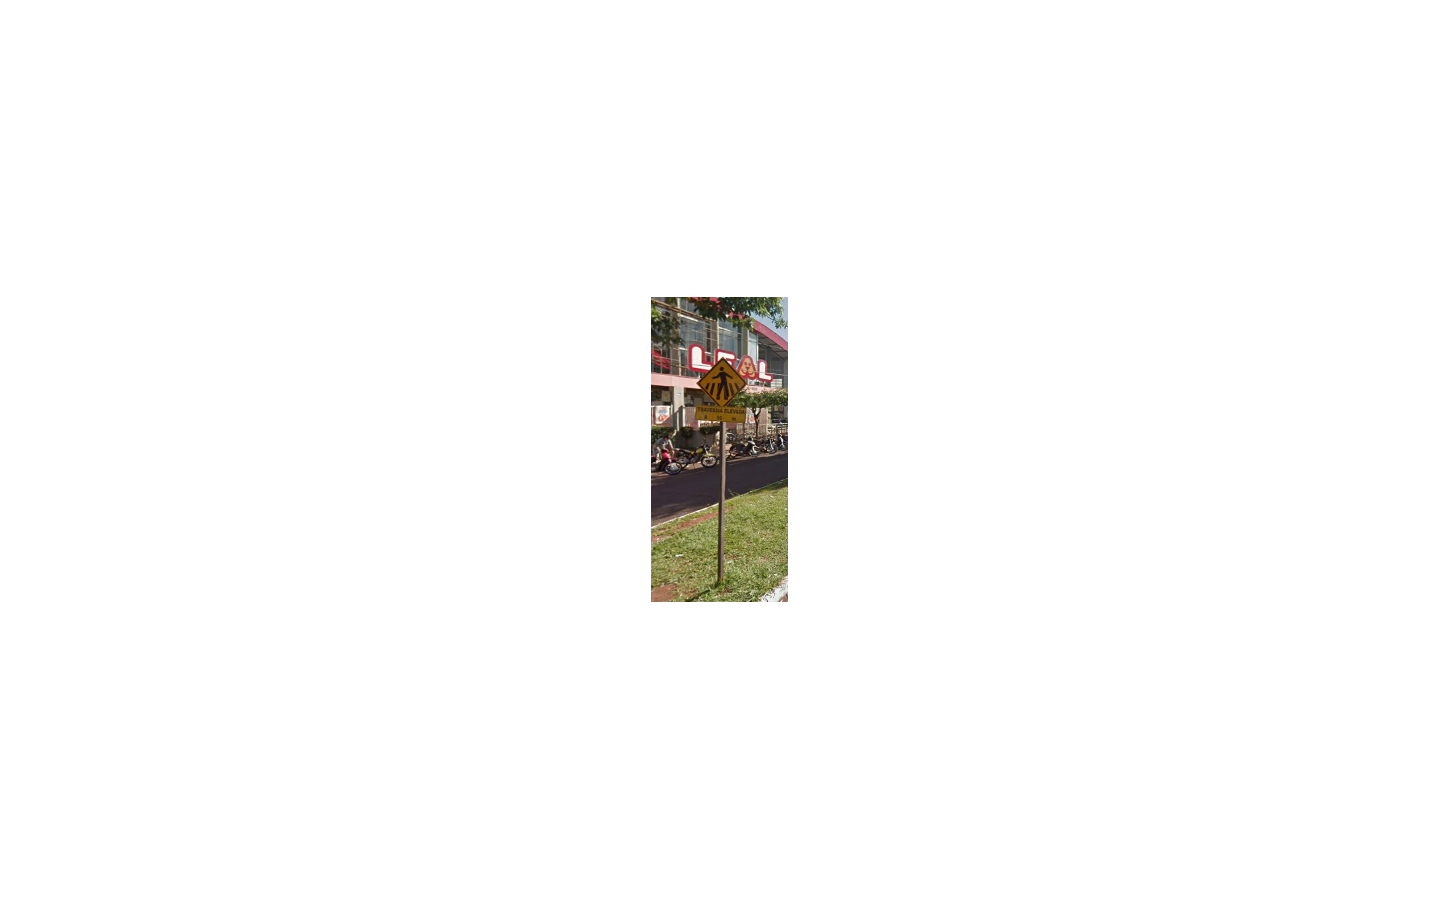t50m: (693, 356, 747, 422)
